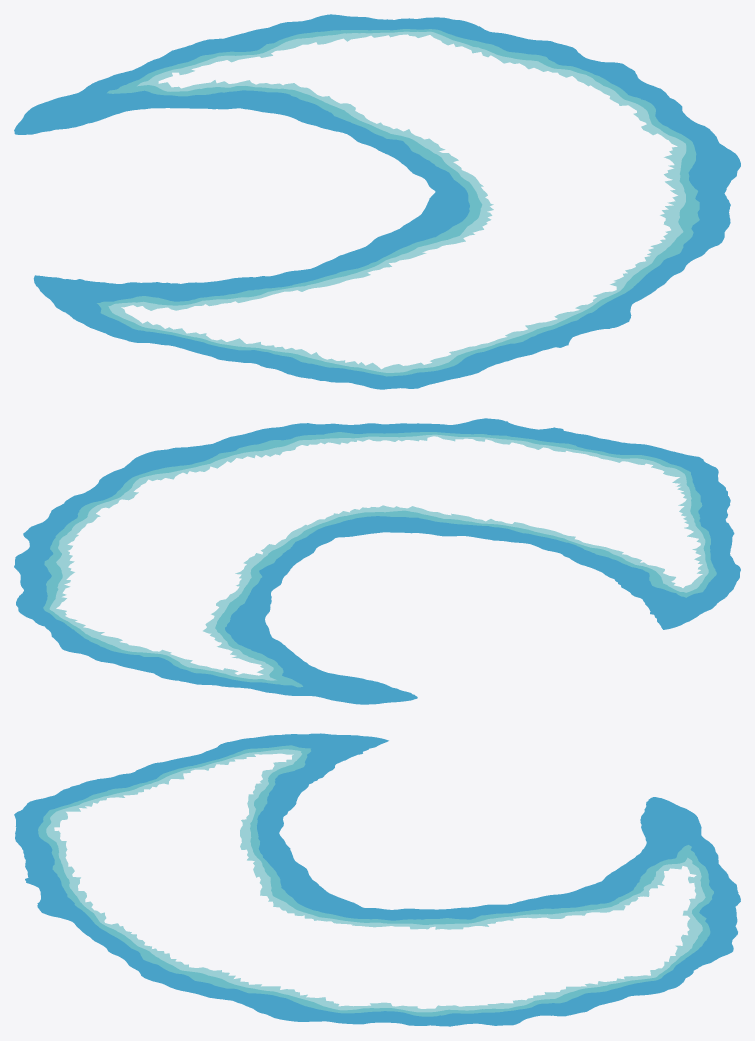
File: Isl-crescent6-Water.fbx
3 views of the same model, one above another, from view 1: azimuth 30°, elevation 25°; view 2: azimuth 150°, elevation 25°; view 3: azimuth 270°, elevation 25° (orthographic). The views are drawn at different scales.
Parts seen in each view (by area): view 1: Isl-crescent6-Water; view 2: Isl-crescent6-Water; view 3: Isl-crescent6-Water.
Boxes of the visible parts, <box> form: Isl-crescent6-Water: <box>14,14,740,389</box>; Isl-crescent6-Water: <box>14,418,740,704</box>; Isl-crescent6-Water: <box>14,733,740,1026</box>.
Bounding box in the file's own units: 107 × 0 × 112.
